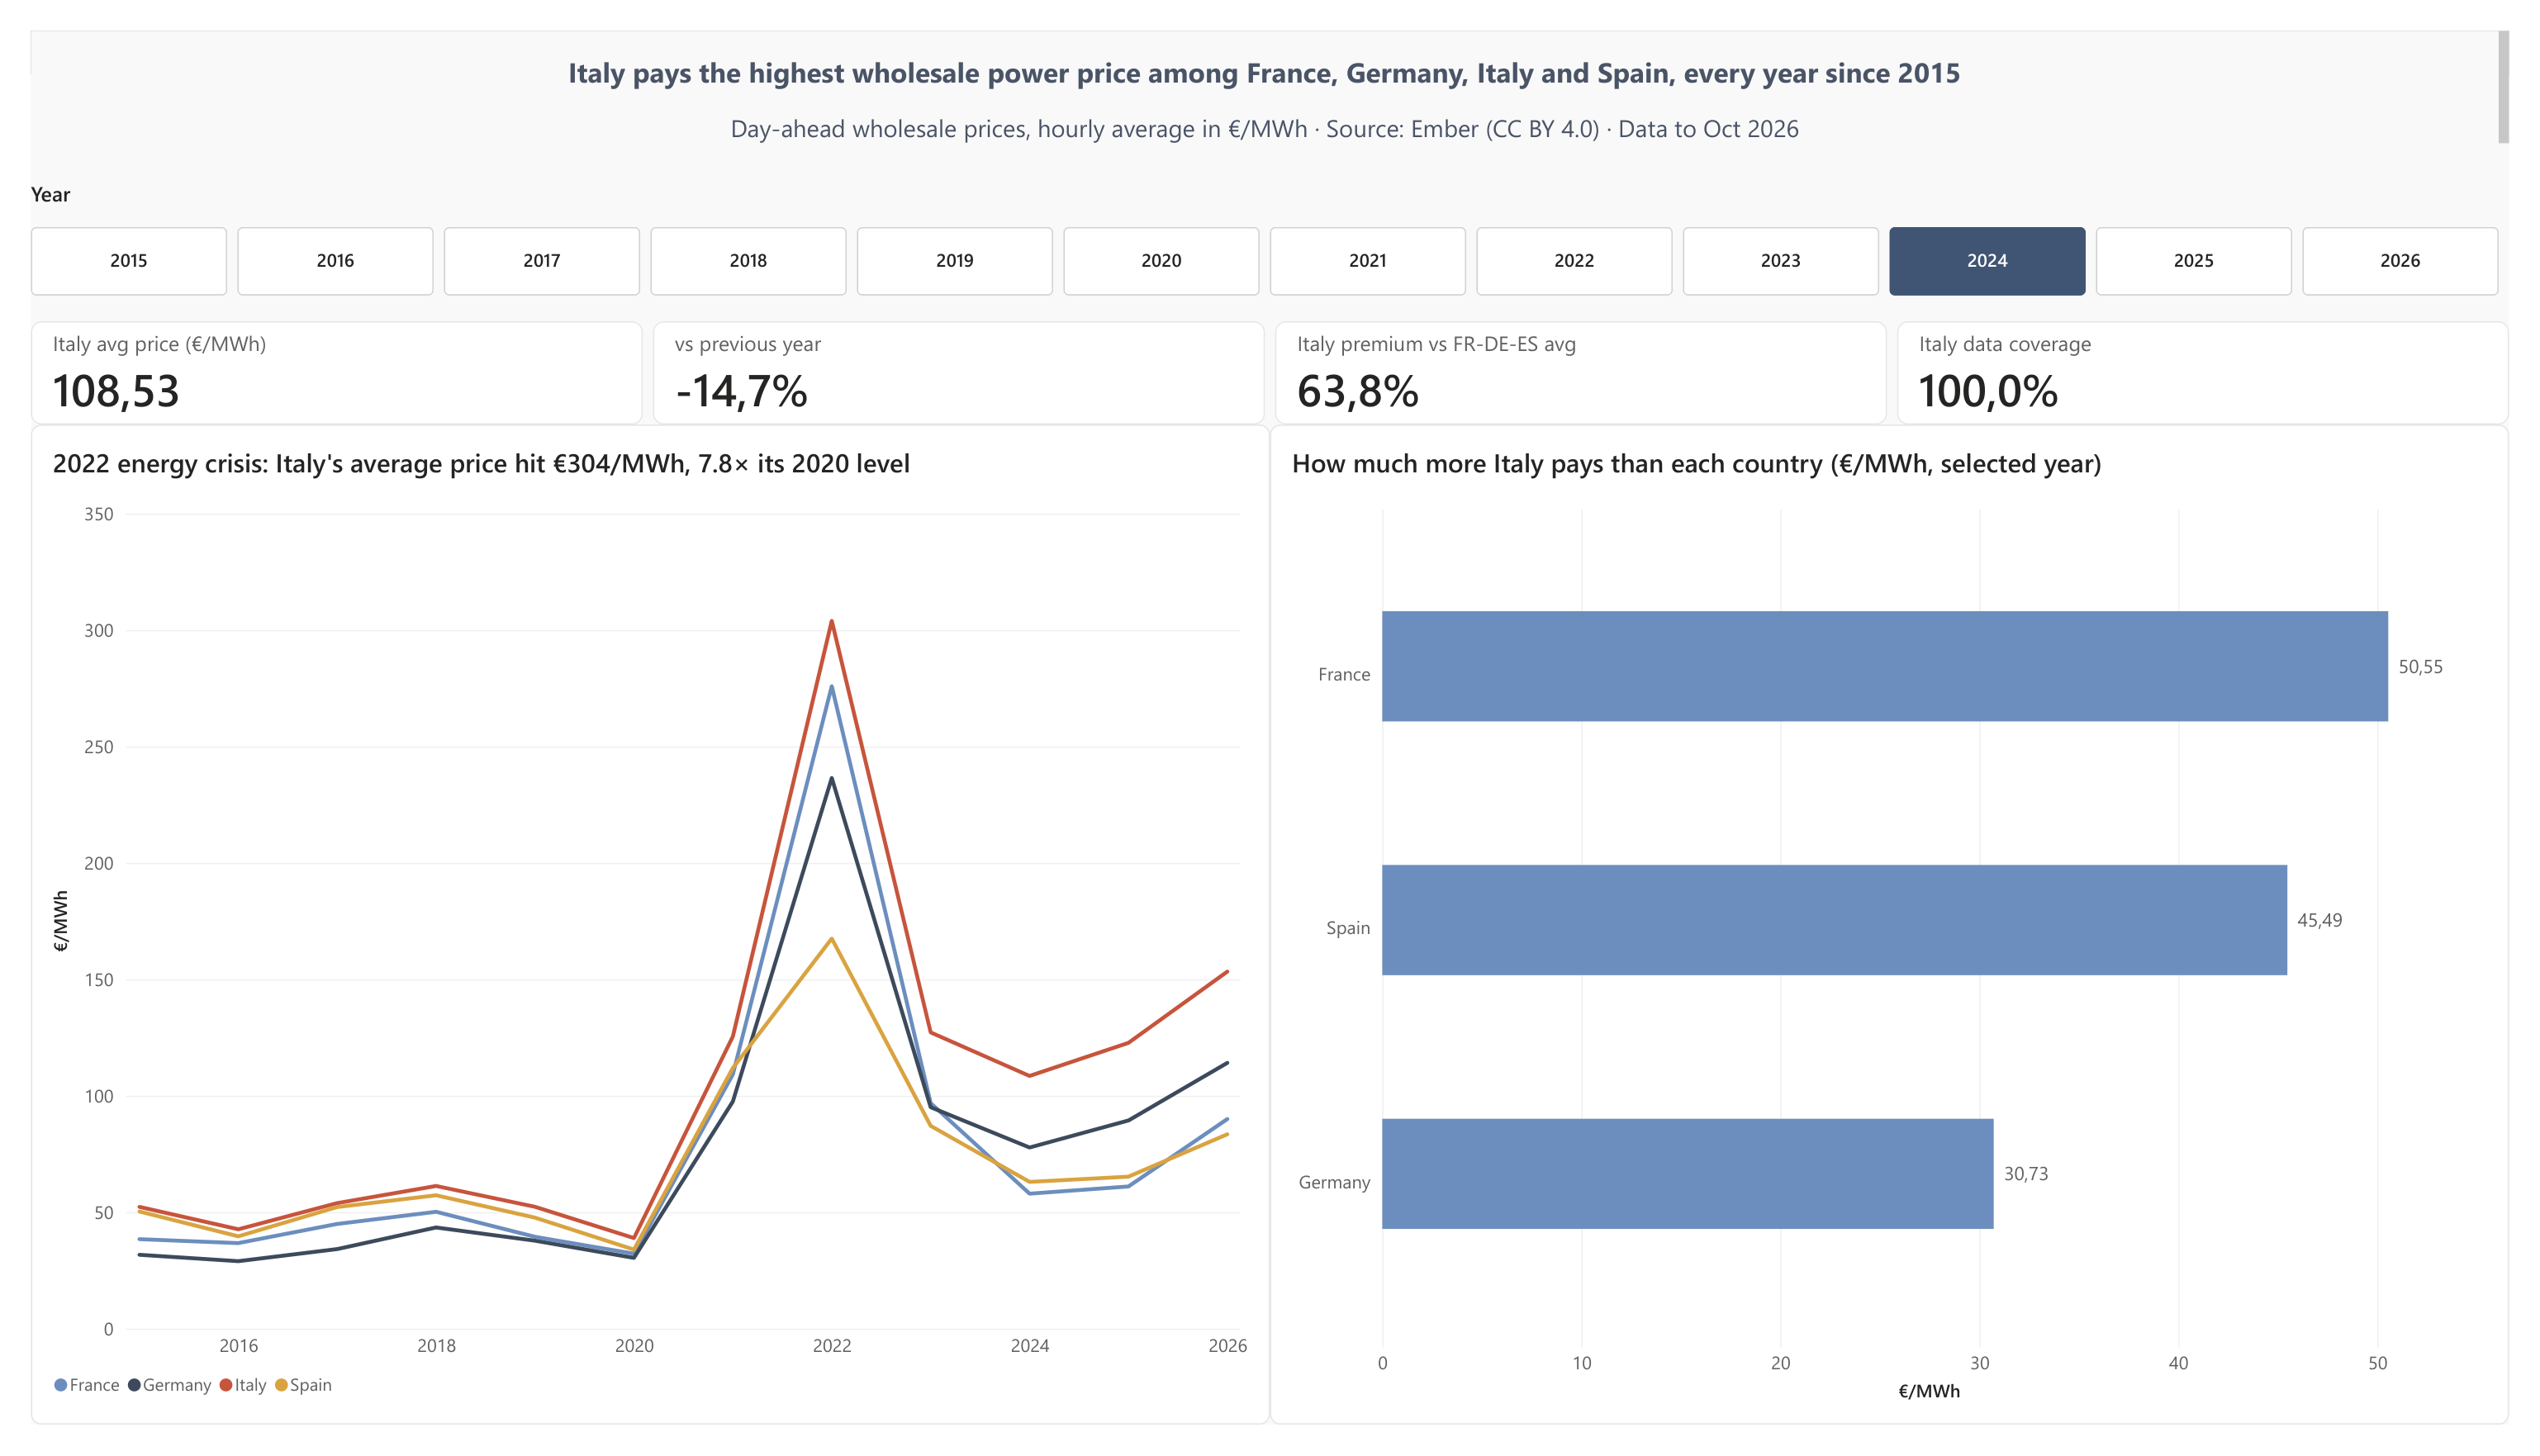

The dashboard page shown, as its layout file describes it:
{"tool":"powerbi","page":{"name":"Overview","canvas":[1920,1080],"ordinal":0},"visuals":[{"type":"advancedSlicerVisual","fields":{"Values":["dim_date.Year"]},"box":[0,115,1920,90],"z":0},{"type":"textbox","box":[0,0,1920,95],"z":2000},{"type":"lineChart","title":"2022 energy crisis: Italy''s average price hit €304/MWh, 7.8× its 2020 level","fields":{"Category":["dim_date.Year","dim_date.Month"],"Series":["dim_country.Country"],"Y":["_Measures.Avg Price"]},"box":[0,305,960,775],"z":3000},{"type":"clusteredBarChart","title":"How much more Italy pays than each country (€/MWh, selected year)","fields":{"Category":["dim_country.Country"],"Y":["_Measures.Spread Italy vs Country"]},"box":[960,305,960,775],"z":3001},{"type":"cardVisual","fields":{"Data":["_Measures.Avg Price Italy","_Measures.Italy YoY %","_Measures.Italy Premium vs Others %","_Measures.Italy Coverage %"]},"box":[0,225,1920,80],"z":3002}]}

Visuals, with their boxes on the page's 1920x1080 design canvas (x1, y1, x2, y2). These are canvas units, not pixel positions in the 2540x1456 screenshot, which may show the page scaled, cropped or inside an application window:
advancedSlicerVisual - dim_date.Year: box(0, 115, 1920, 205)
textbox: box(0, 0, 1920, 95)
"2022 energy crisis: Italy''s average price hit €304/MWh, 7.8× its 2020 level" lineChart: box(0, 305, 960, 1080)
"How much more Italy pays than each country (€/MWh, selected year)" clusteredBarChart: box(960, 305, 1920, 1080)
cardVisual - _Measures.Avg Price Italy x _Measures.Italy YoY %: box(0, 225, 1920, 305)
